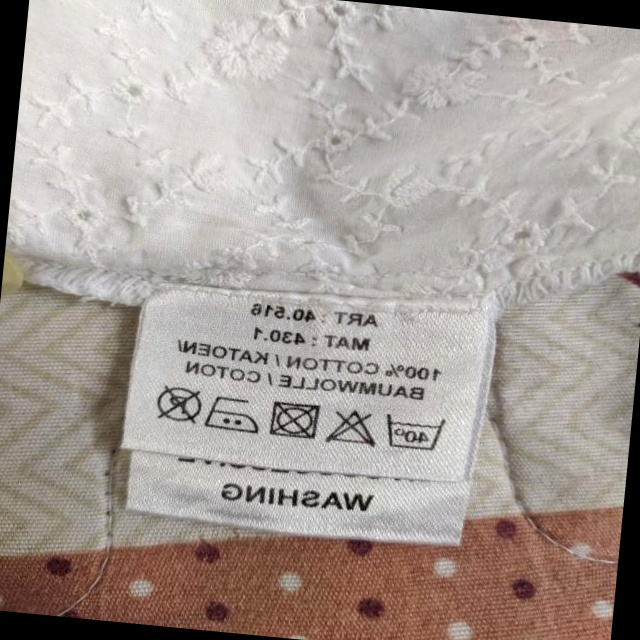40C: (382, 409, 446, 454)
DN_bleach: (326, 403, 382, 450)
DN_dry_clean: (153, 383, 204, 426)
DN_tumble_dry: (268, 399, 323, 444)
iron_medium: (204, 394, 262, 436)
